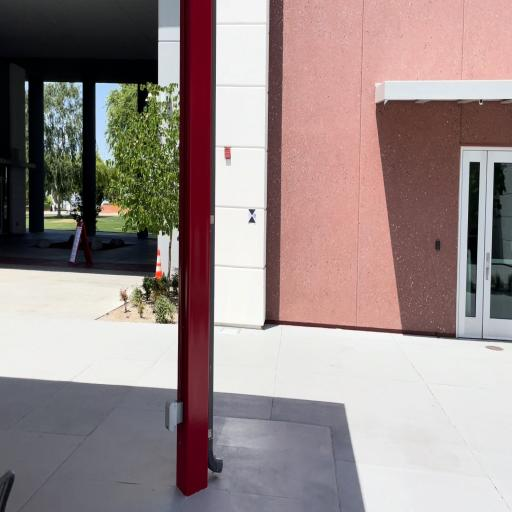target9: (248, 208, 256, 224)
